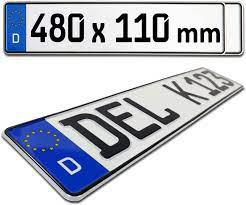0: (66, 13, 86, 43), (151, 12, 170, 43)
1: (182, 76, 221, 96), (114, 11, 134, 44), (133, 11, 152, 43)
2: (192, 73, 229, 91)
3: (201, 69, 234, 87)
4: (30, 11, 47, 43)
8: (49, 11, 67, 43)
D: (58, 112, 138, 160)
E: (94, 101, 162, 140)
K: (161, 80, 209, 105)
L: (122, 96, 181, 126)
